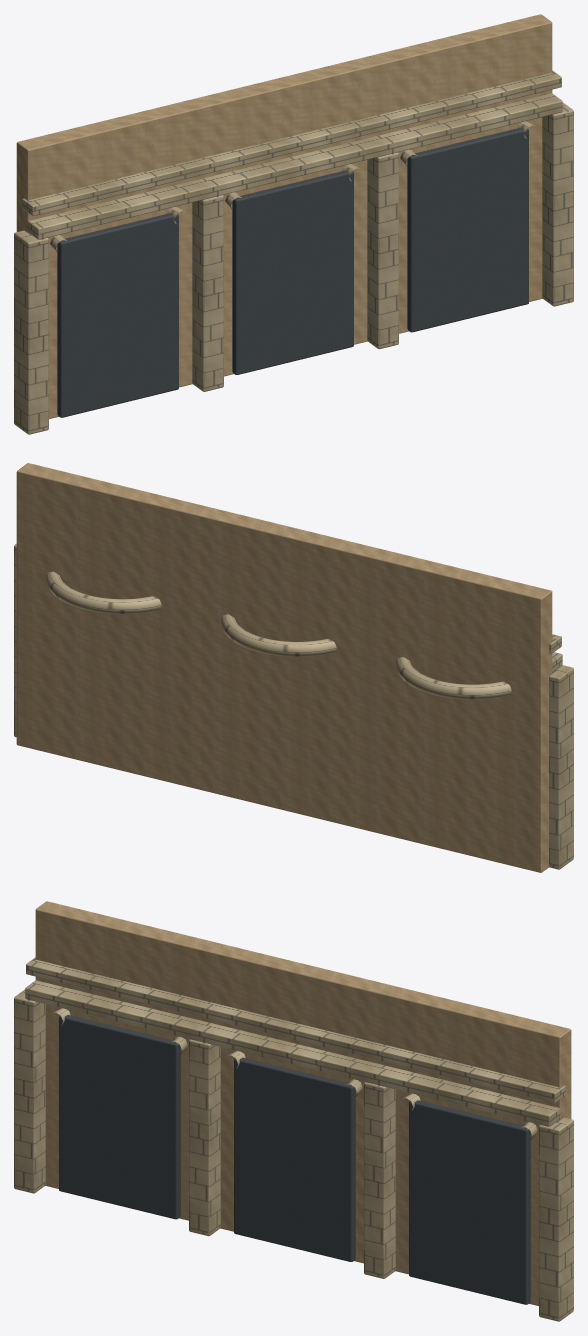
The model's file is facade-civic-arcade.lod0.gltf.
3 views of the same model, one above another, from view 1: azimuth 30°, elevation 25°; view 2: azimuth 150°, elevation 25°; view 3: azimuth 330°, elevation 25° (orthographic).
Visible parts, largest first — view 1: facade-civic-arcade; view 2: facade-civic-arcade; view 3: facade-civic-arcade.
Part boxes in pixels (x1=…): facade-civic-arcade: x1=14, y1=14, x2=573, y2=434; facade-civic-arcade: x1=14, y1=463, x2=573, y2=872; facade-civic-arcade: x1=14, y1=901, x2=573, y2=1321.
Size of the model in its own units: 8.74 by 4.2 by 1.18.
Materials: 3 (3 with a texture image).
